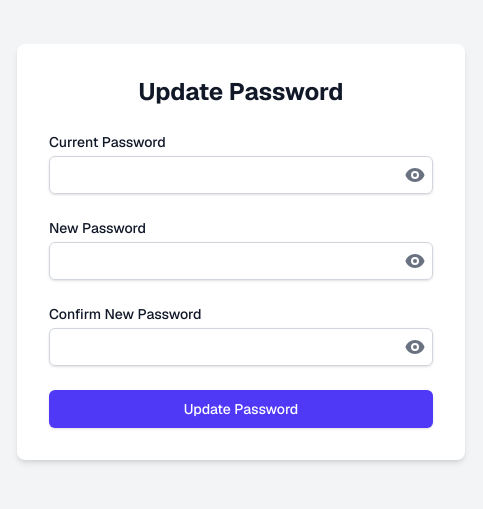
Test: UpdatePasswordForm - Comprehensive Tests › Basic Validation › should show validation error for short new password
Type "password123" into the password field labelled "Current Password". click: (241, 175)
box: [49, 156, 433, 194]
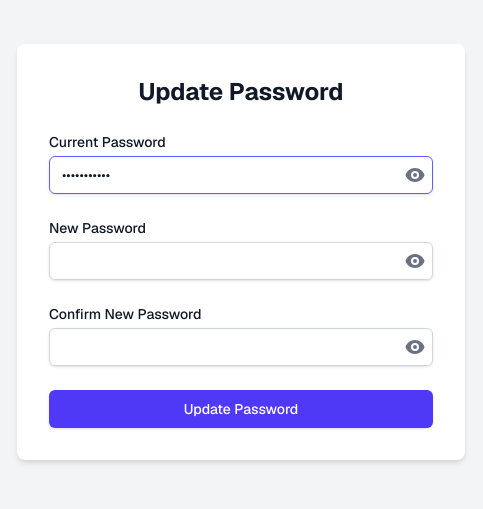
Type "123" into the password field labelled "New Password". click: (241, 261)
box: [49, 242, 433, 280]
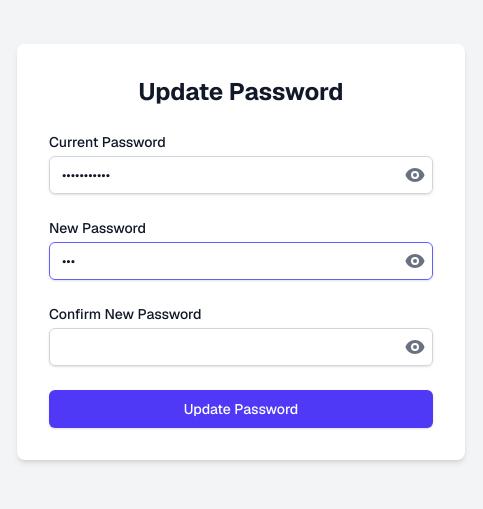
Click the button "Update Password". click: (241, 409)
box: [49, 390, 433, 428]
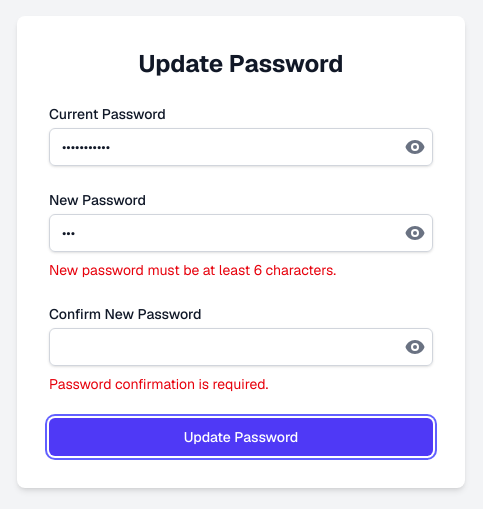
Expected: the text "New password must be at least 6 characters." is shown, [49, 261, 336, 279]
